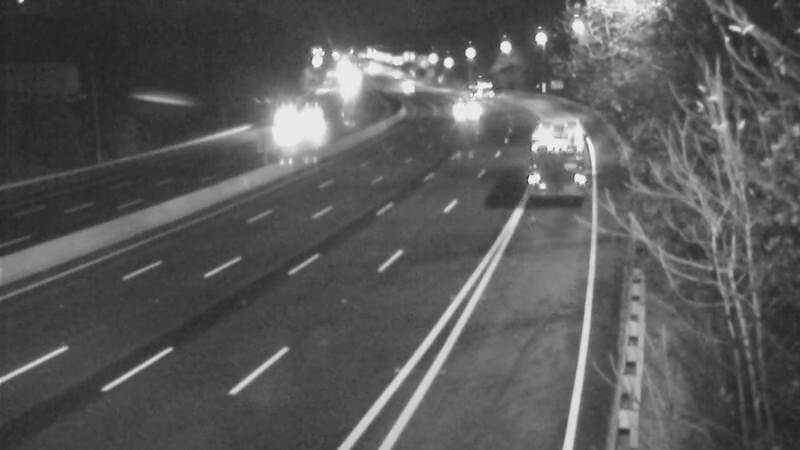vehicle: (384, 65, 434, 115), (454, 61, 504, 111), (447, 78, 497, 128), (533, 115, 583, 165), (252, 95, 302, 145), (281, 97, 331, 147)
